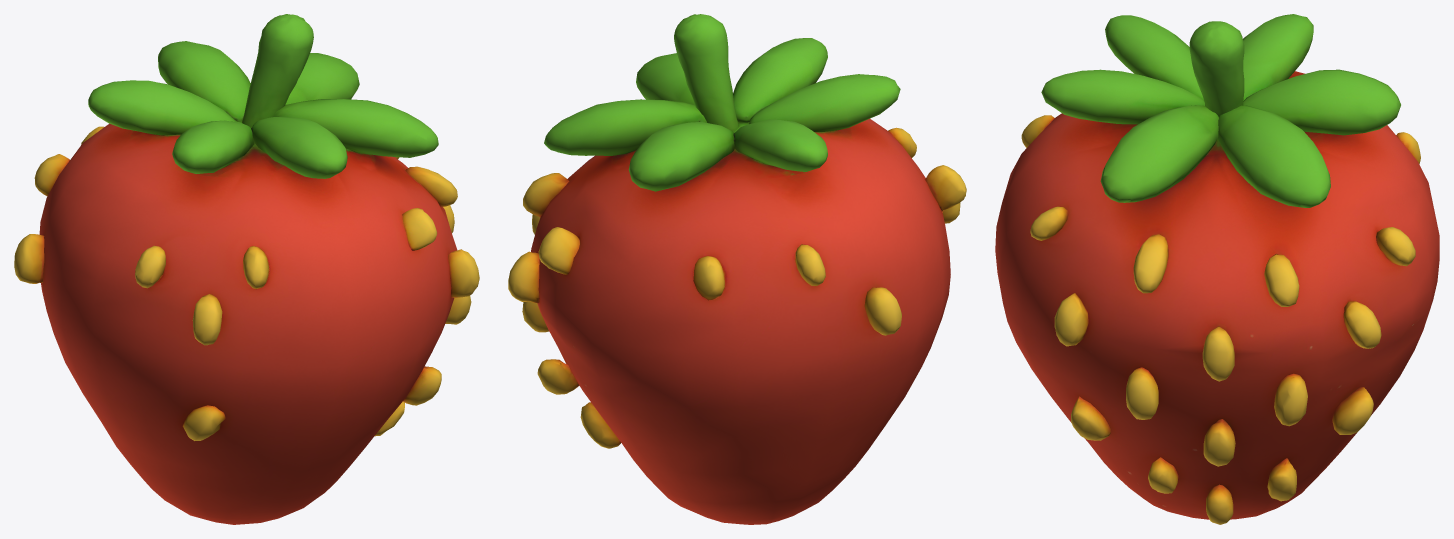
File: strawberry.glb
3 renders of one model, left to right at view 1: azimuth 30°, elevation 25°; view 2: azimuth 150°, elevation 25°; view 3: azimuth 270°, elevation 25°, orthographic. The views are drawn at different scales.
Parts seen in each view (by area): view 1: tripo_node_dfacee70-257c-4311-92e5-62ae70f5e4ce; view 2: tripo_node_dfacee70-257c-4311-92e5-62ae70f5e4ce; view 3: tripo_node_dfacee70-257c-4311-92e5-62ae70f5e4ce.
Boxes of the visible parts, x1,y1,x2,y2 form: tripo_node_dfacee70-257c-4311-92e5-62ae70f5e4ce: (14,14,479,524); tripo_node_dfacee70-257c-4311-92e5-62ae70f5e4ce: (508,14,966,524); tripo_node_dfacee70-257c-4311-92e5-62ae70f5e4ce: (995,14,1439,524).
Size of the model in its own units: 0.8652 by 0.998 by 0.791.
1 material, 1 textured.
